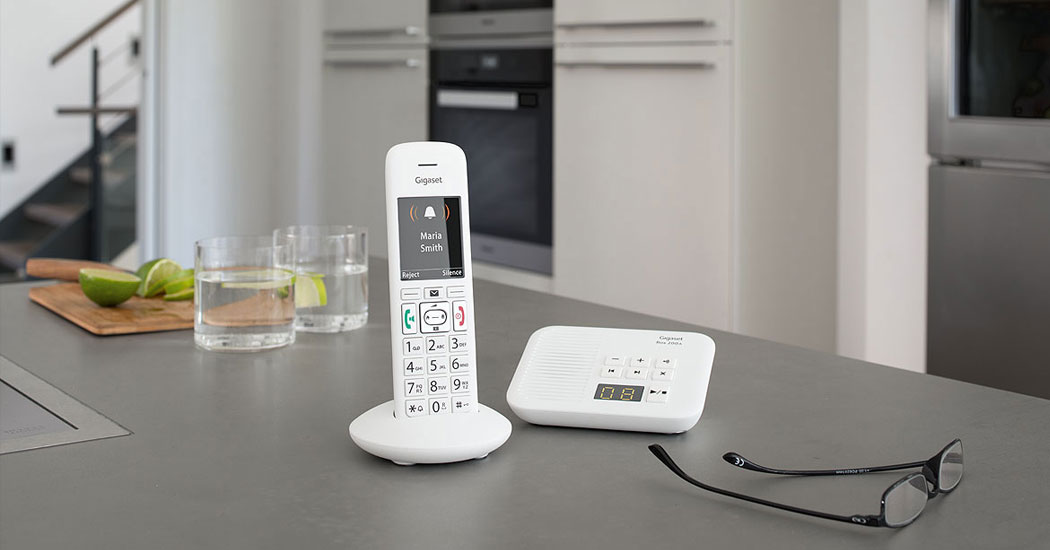telephone: (381, 140, 484, 427)
